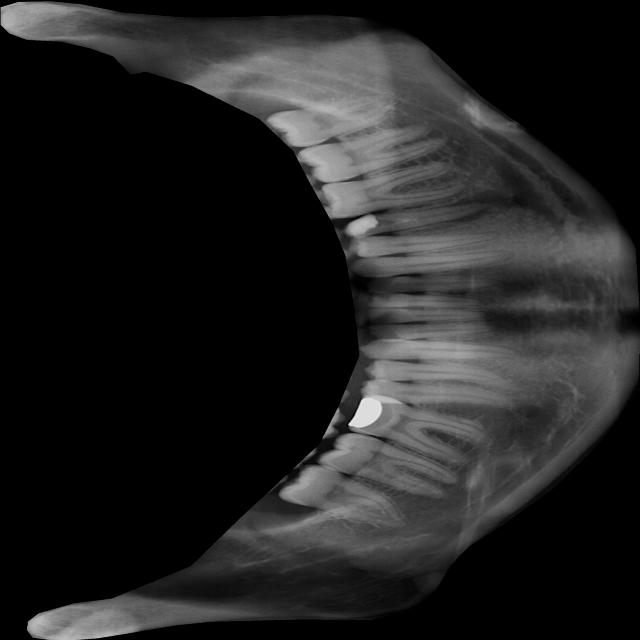mandibula: (1, 0, 640, 640)
